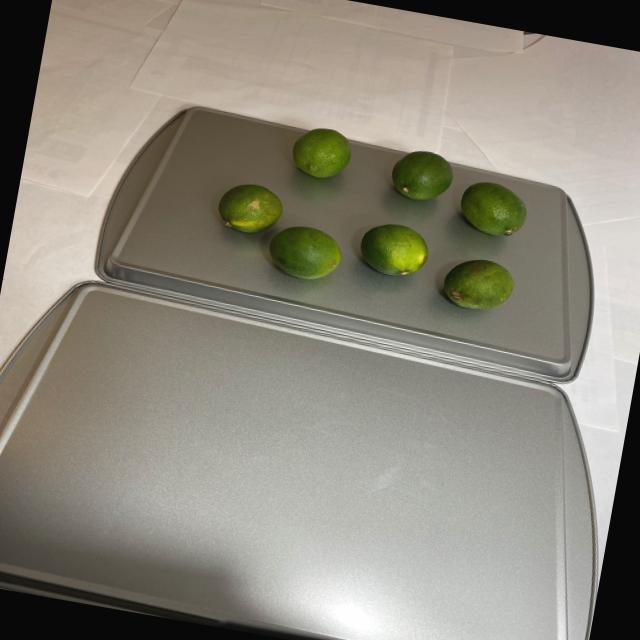lemon: (205, 114, 545, 319)
